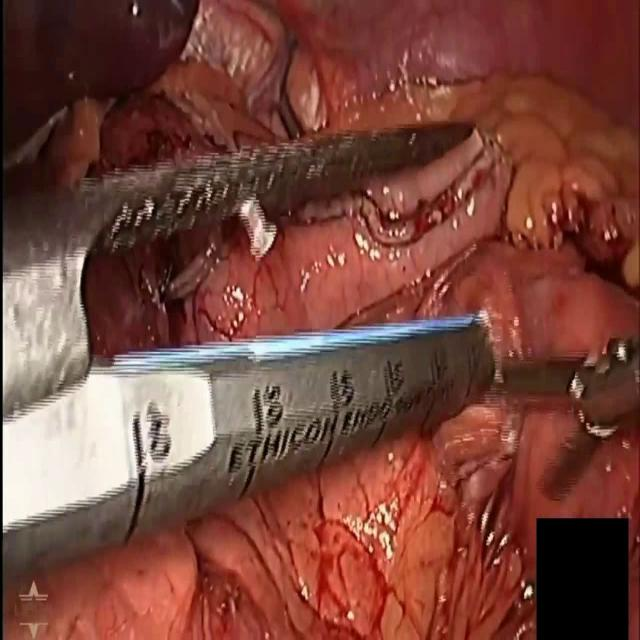surgical-area: (0, 0, 640, 639)
surgical-tool: (0, 117, 496, 576), (502, 333, 640, 500)
